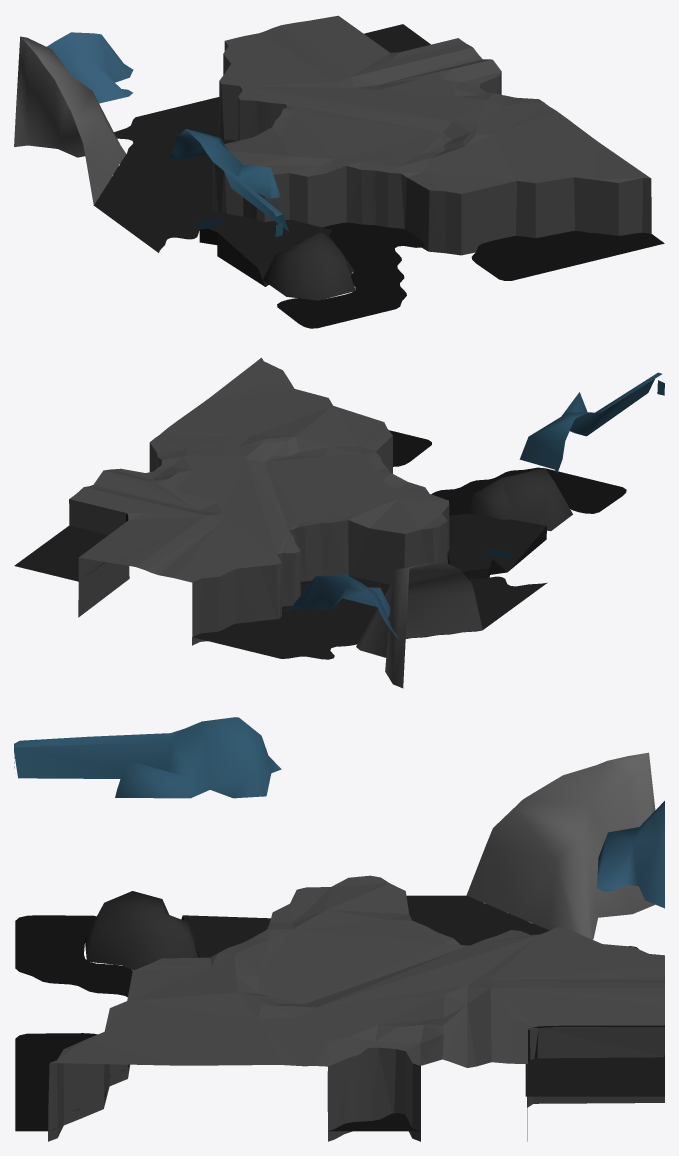
Rendered from newsho-87.glb.
3 views of the same model, one above another, from view 1: azimuth 30°, elevation 25°; view 2: azimuth 150°, elevation 25°; view 3: azimuth 270°, elevation 25° (orthographic). The views are drawn at different scales.
Visible parts, largest first — view 1: newsho-87; view 2: newsho-87; view 3: newsho-87.
Part boxes in pixels (x1,y1,x2,y2): newsho-87: [14, 15, 664, 328]; newsho-87: [14, 357, 664, 688]; newsho-87: [14, 717, 664, 1141].
Bounding box in the file's own units: 2 × 0.7477 × 2.33.
